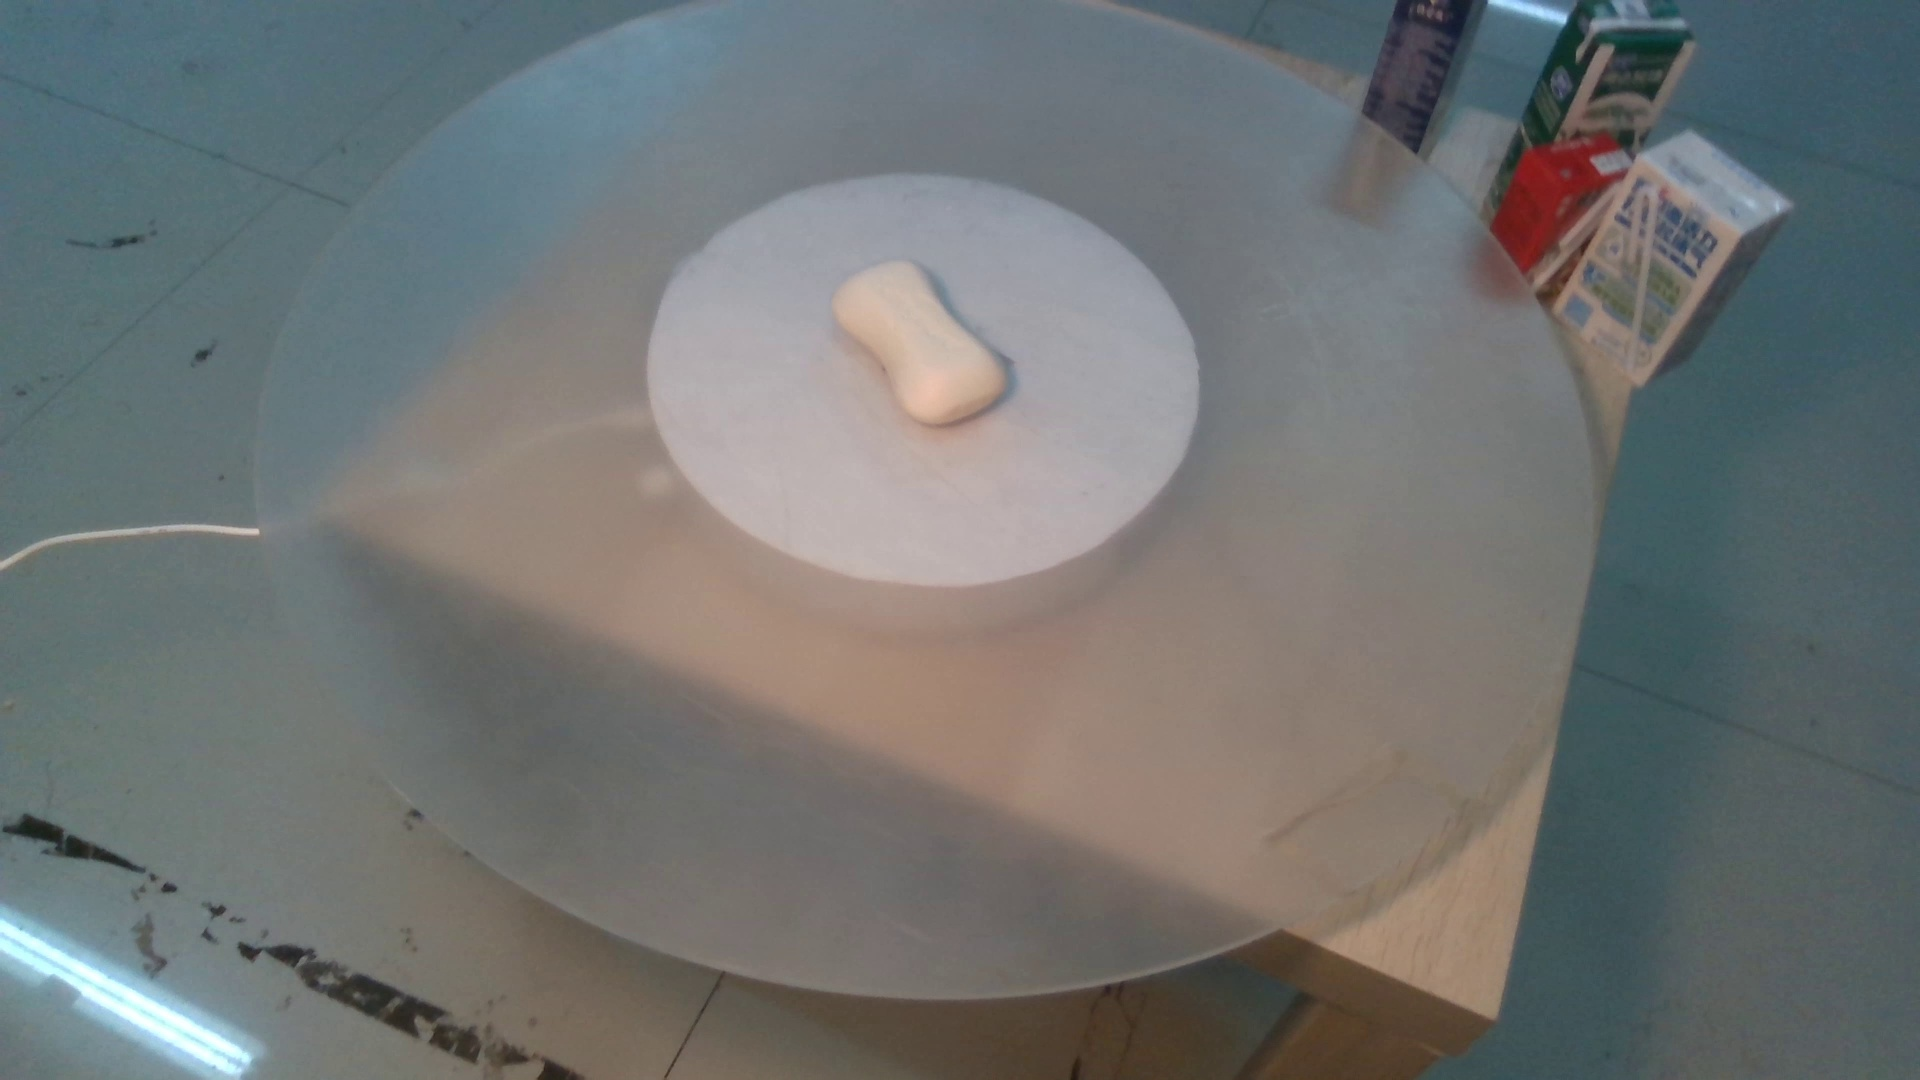CA003_1: (807, 251, 1025, 434)
